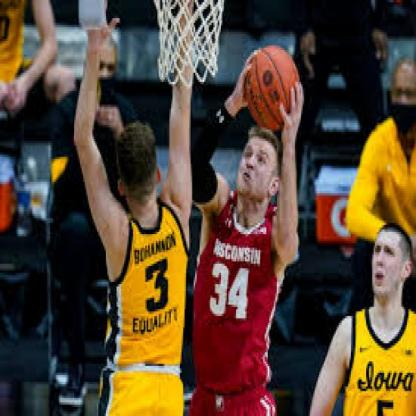basketball: (244, 45, 301, 132)
